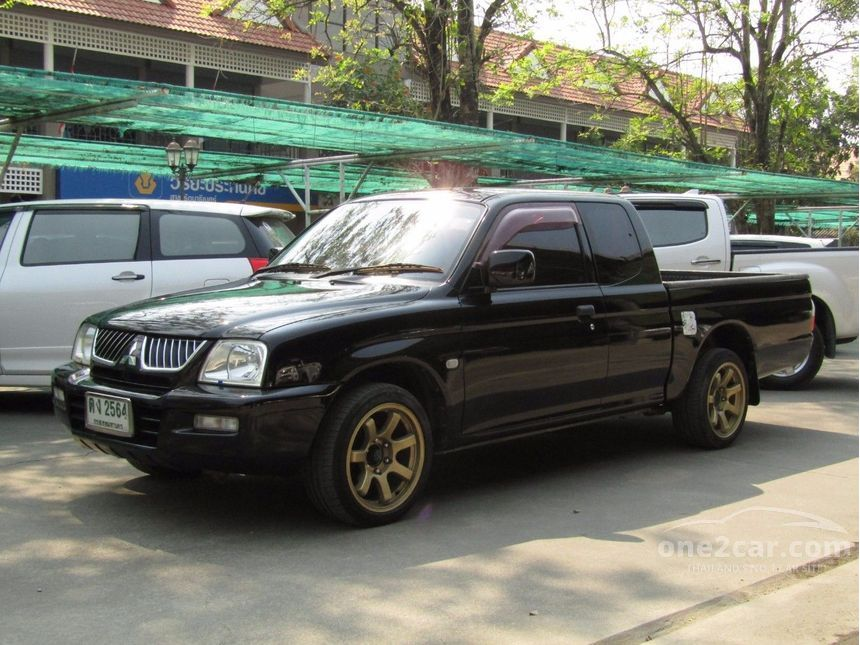pickup: (48, 181, 821, 527)
